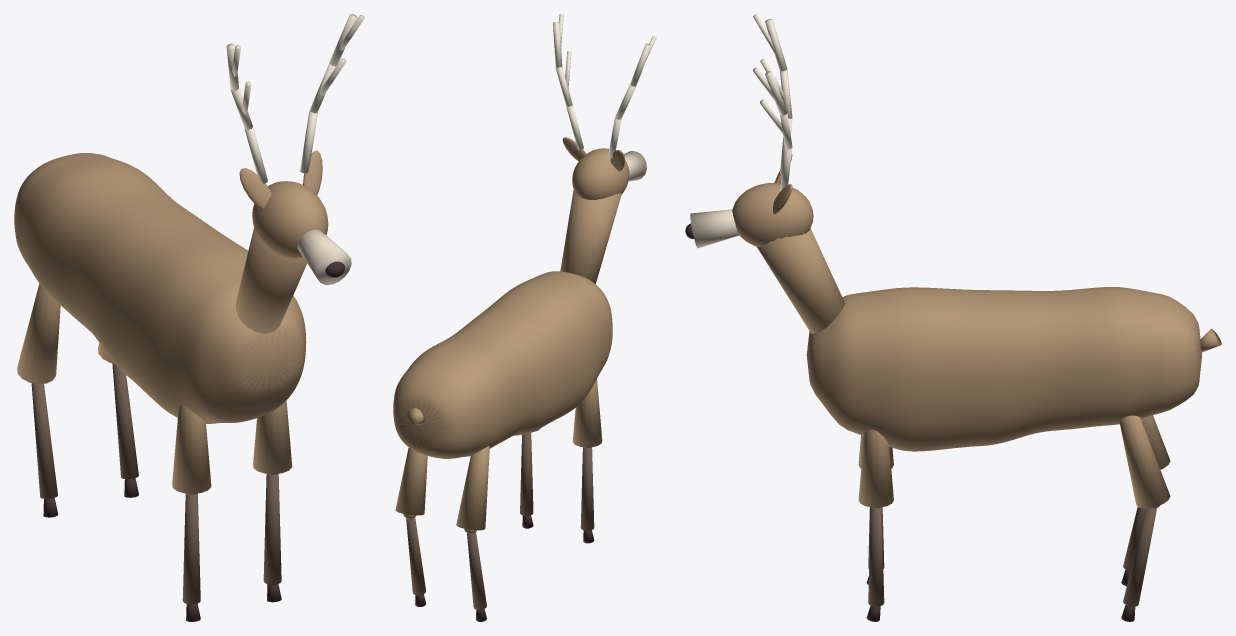
The model's file is cerf.glb.
3 views of the same model, side by side, from view 1: azimuth 30°, elevation 25°; view 2: azimuth 150°, elevation 25°; view 3: azimuth 270°, elevation 25° (orthographic). The views are drawn at different scales.
Parts seen in each view (by area): view 1: corps, cou, crane, haut.002, haut, haut.001, bas.002, bas.003, bas, bas.001, museau, bois.001 (+3 smaller); view 2: corps, cou, crane, haut.002, haut.003, haut, bas, bas.001, bois.001, bas.003, bas.002, bois (+1 smaller); view 3: corps, cou, crane, haut.003, haut.001, bas.003, museau, bas.001, bois.001, bois.
Part boxes in pixels (bbox=[...]): corps: bbox=[14, 153, 306, 423]; cou: bbox=[236, 227, 306, 333]; crane: bbox=[252, 181, 328, 258]; haut.002: bbox=[17, 284, 60, 384]; haut: bbox=[172, 405, 211, 493]; haut.001: bbox=[253, 400, 292, 474]; bas.002: bbox=[31, 383, 57, 498]; bas.003: bbox=[112, 363, 138, 479]; bas: bbox=[182, 493, 200, 604]; bas.001: bbox=[263, 473, 281, 584]; museau: bbox=[297, 229, 351, 284]; bois.001: bbox=[300, 14, 357, 173]; corps: bbox=[393, 271, 612, 458]; cou: bbox=[560, 190, 621, 283]; crane: bbox=[572, 148, 629, 199]; haut.002: bbox=[456, 446, 489, 530]; haut.003: bbox=[395, 447, 427, 515]; haut: bbox=[572, 379, 602, 447]; bas: bbox=[580, 447, 594, 530]; bas.001: bbox=[520, 432, 533, 515]; bois.001: bbox=[553, 22, 583, 149]; bas.003: bbox=[406, 517, 425, 595]; bas.002: bbox=[467, 532, 486, 610]; bois: bbox=[608, 43, 651, 157]; corps: bbox=[806, 287, 1201, 451]; cou: bbox=[757, 228, 844, 333]; crane: bbox=[732, 183, 813, 247]; haut.003: bbox=[1119, 415, 1170, 508]; haut.001: bbox=[858, 429, 893, 507]; bas.003: bbox=[1123, 508, 1156, 606]; museau: bbox=[690, 209, 738, 248]; bas.001: bbox=[868, 507, 884, 606]; bois.001: bbox=[765, 71, 792, 191]; bois: bbox=[765, 19, 792, 173].
Bounding box in the file's own units: 0.5389 × 2.49 × 2.16.
